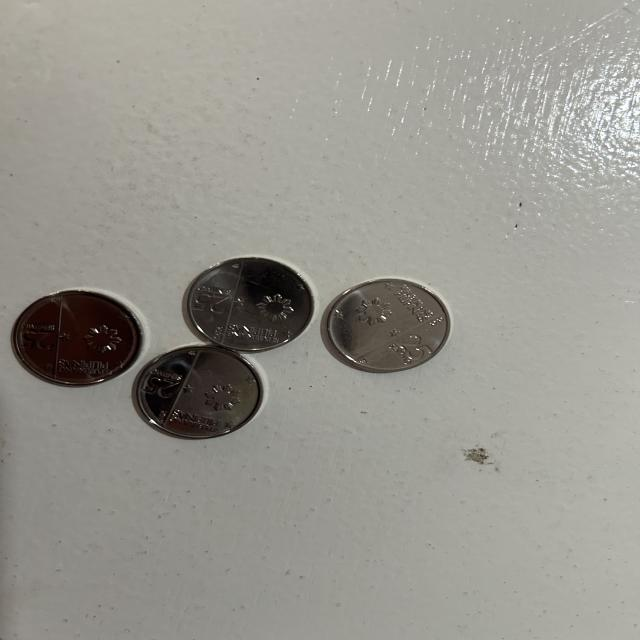25Cent_New_Front: (14, 317, 62, 357), (191, 280, 234, 318), (378, 334, 431, 363), (141, 369, 189, 399)
